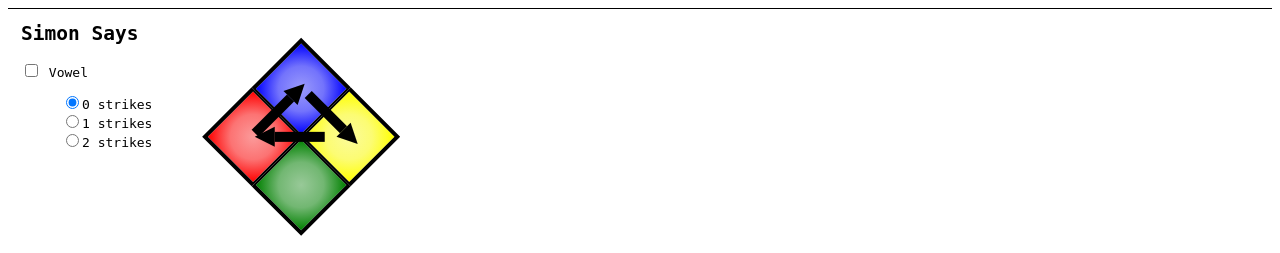
Test: SimonSaysModule › displays different arrows with vowel
The width and height of the screenshot is (1280, 253).
Click the checkbox labelled "Vowel": (32, 71) [25,64,38,77]
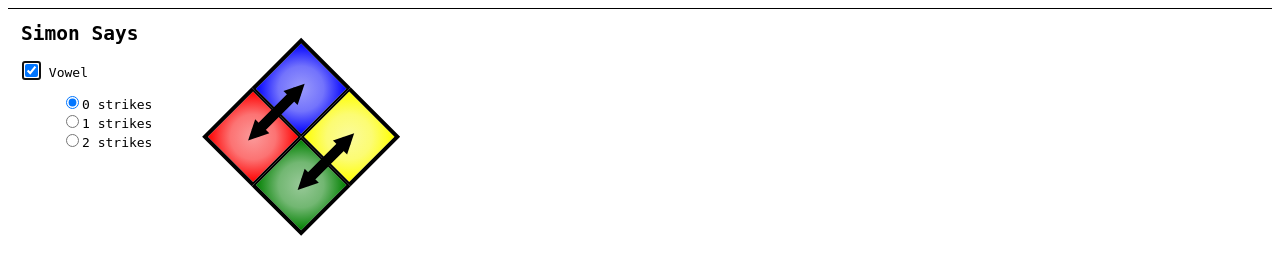
Expected: the element with id "arrowBR" is shown, [259,88,302,130]
Expected: the element with id "arrowGY" is shown, [302,144,344,186]
Expected: the element with id "arrowYG" is shown, [309,137,351,179]
